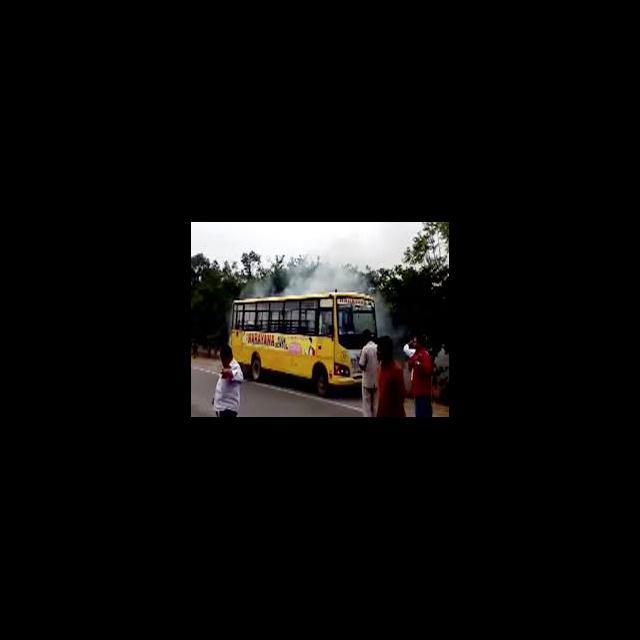Smoke: (240, 260, 370, 298)
